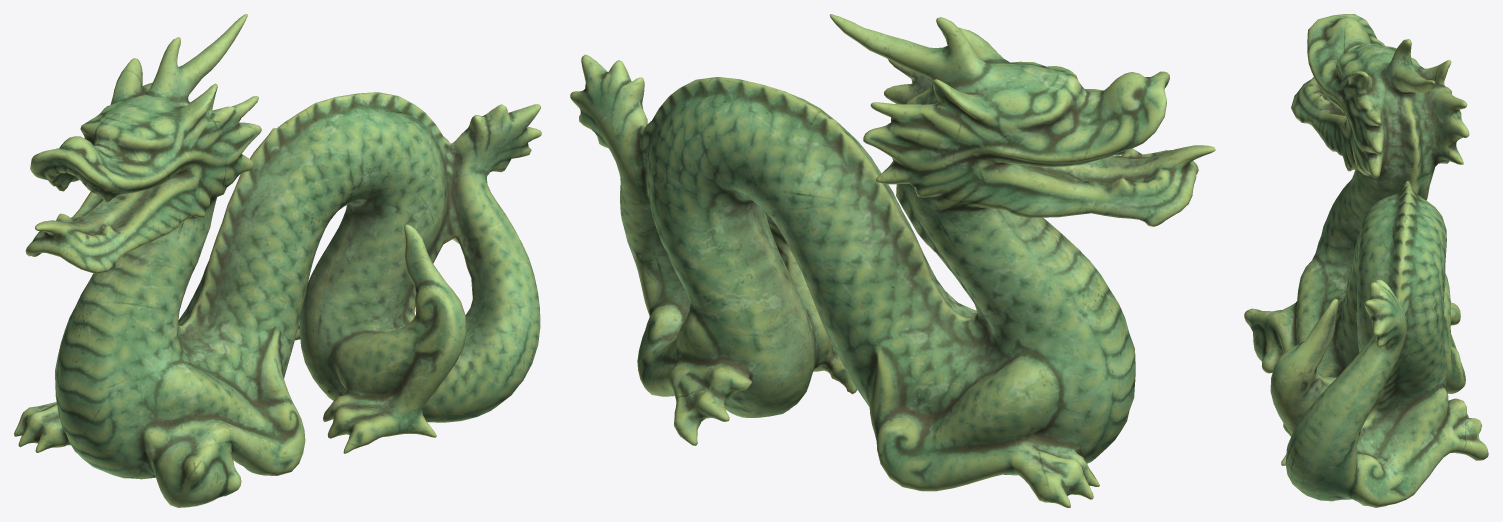
The model's file is dragon3.glb.
The picture shows the model from 3 angles, left to right: view 1: azimuth 30°, elevation 25°; view 2: azimuth 150°, elevation 25°; view 3: azimuth 270°, elevation 25°; orthographic projection. The views are drawn at different scales.
Parts seen in each view (by area): view 1: StanfordDragon_low; view 2: StanfordDragon_low; view 3: StanfordDragon_low.
Boxes of the visible parts, <box> form: StanfordDragon_low: <box>14,14,541,507</box>; StanfordDragon_low: <box>570,14,1215,507</box>; StanfordDragon_low: <box>1244,14,1488,507</box>.
Bounding box in the file's own units: 3.54 × 2.49 × 1.58.
Materials: 1 (1 with a texture image).
